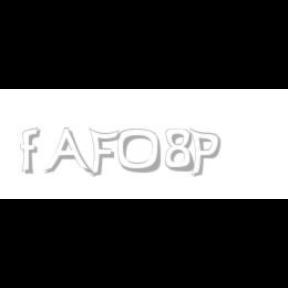8: (164, 128, 194, 172)
A: (44, 128, 92, 176)
F: (88, 128, 120, 178)
O: (118, 128, 162, 174)
P: (189, 128, 221, 178)
f: (20, 128, 44, 174)
